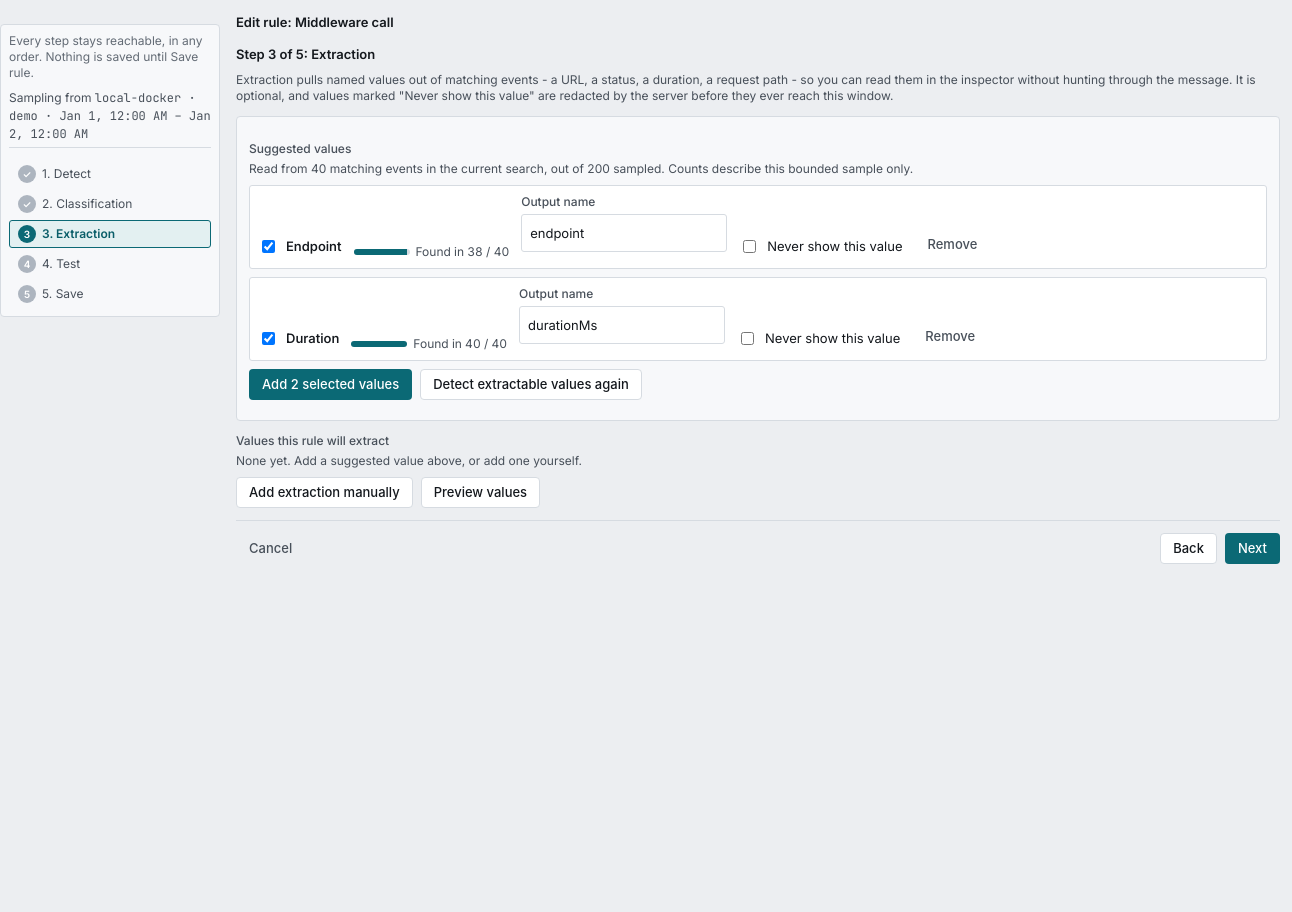
Test: RuleEditor - assisted extraction: the suggestion list › "Add n selected values" moves exactly the ticked suggestions into the rule, renamed and marked sensitive as the user set them
The width and height of the screenshot is (1292, 912).
Expected: the button "Add 2 selected values" is enabled, [249, 369, 412, 400]
// Rename the first, mark it sensitive, and untick the second.
Replace the text in the field labelled "Output name" in the row of "Endpoint" with "target" at (624, 233), box [521, 214, 727, 252]
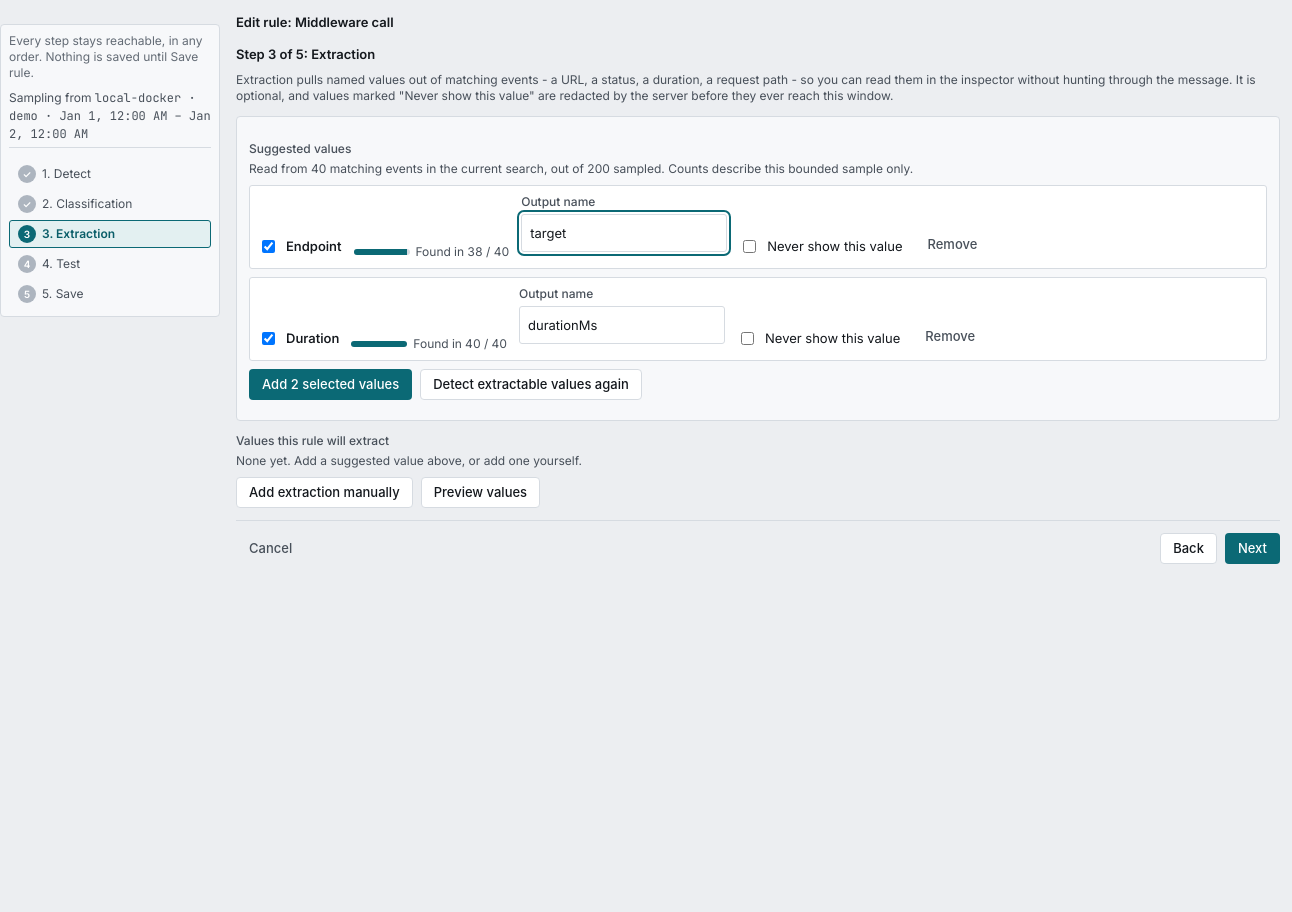
Click the checkbox labelled "Never show this value" in the row of "Endpoint" at (750, 246), box [743, 240, 756, 252]
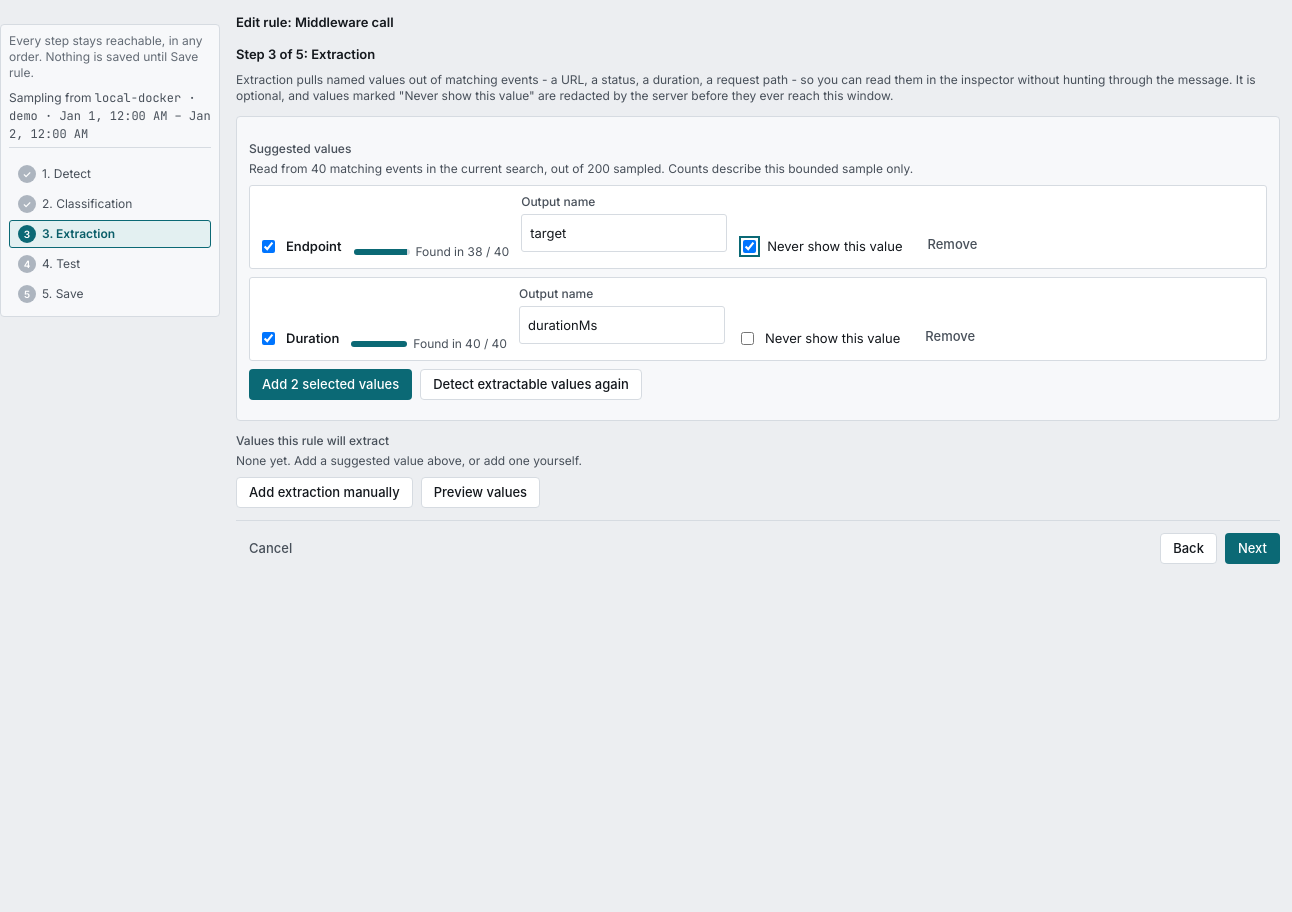
Click the checkbox labelled "Duration" at (268, 338), box [262, 332, 275, 344]
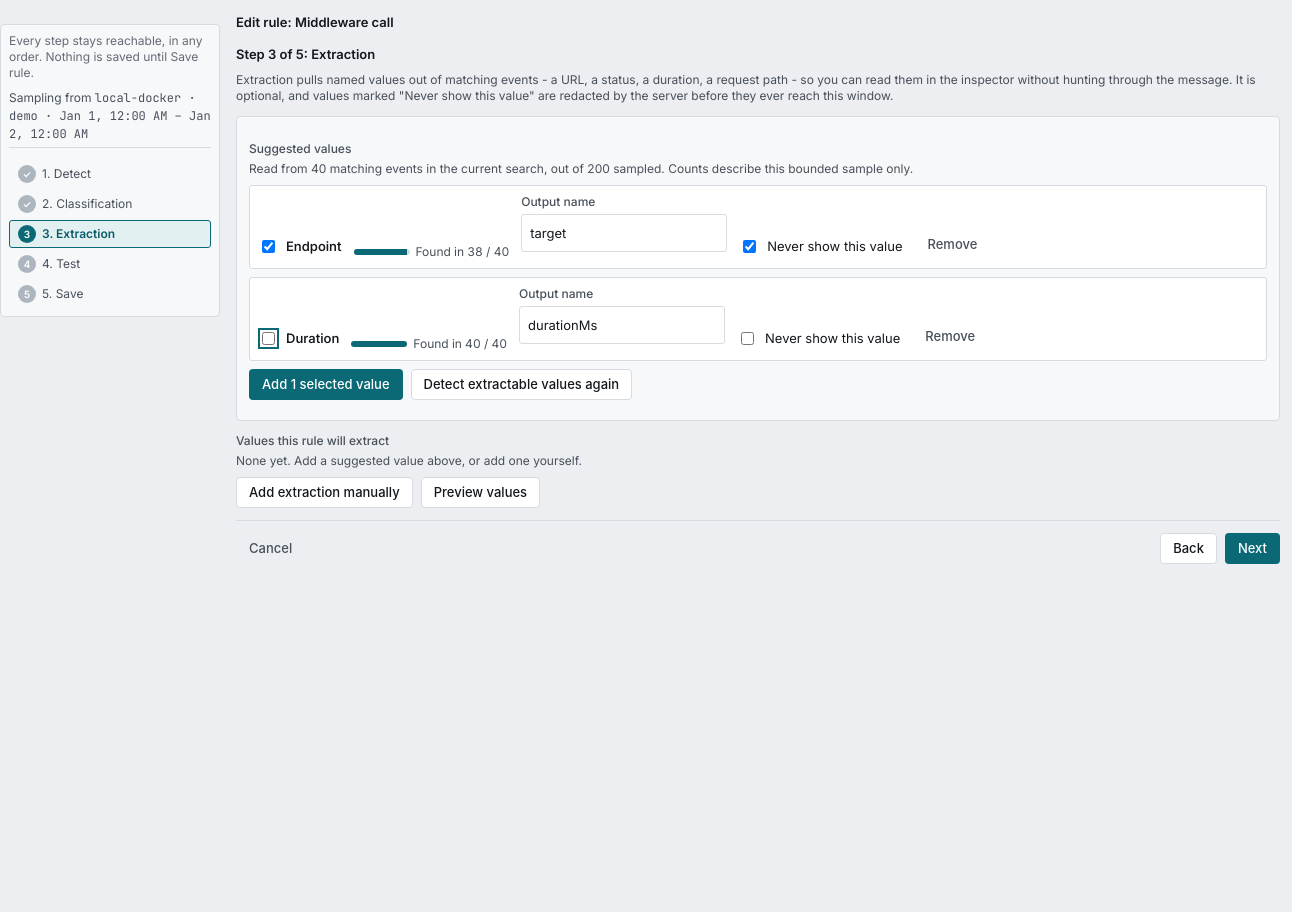
Click the button "Add 1 selected value" at (326, 384), box [249, 369, 402, 400]
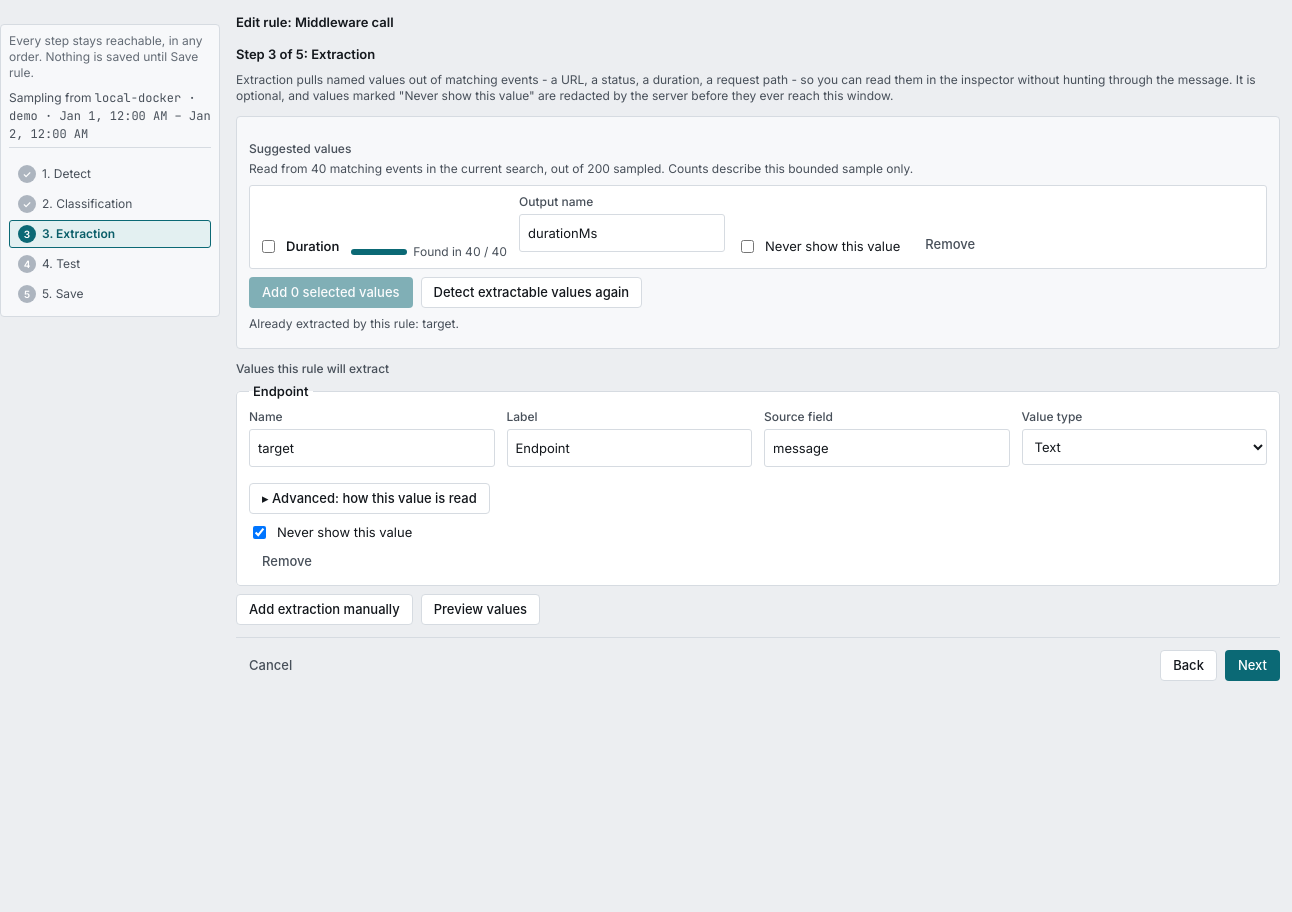
Expected: the checkbox labelled "Never show this value" below "Label" is checked, [253, 526, 266, 538]
Expected: the field labelled "Name" holds "target", [249, 429, 494, 467]
Expected: the text "Already extracted by this rule: target." is shown, [249, 316, 459, 331]
